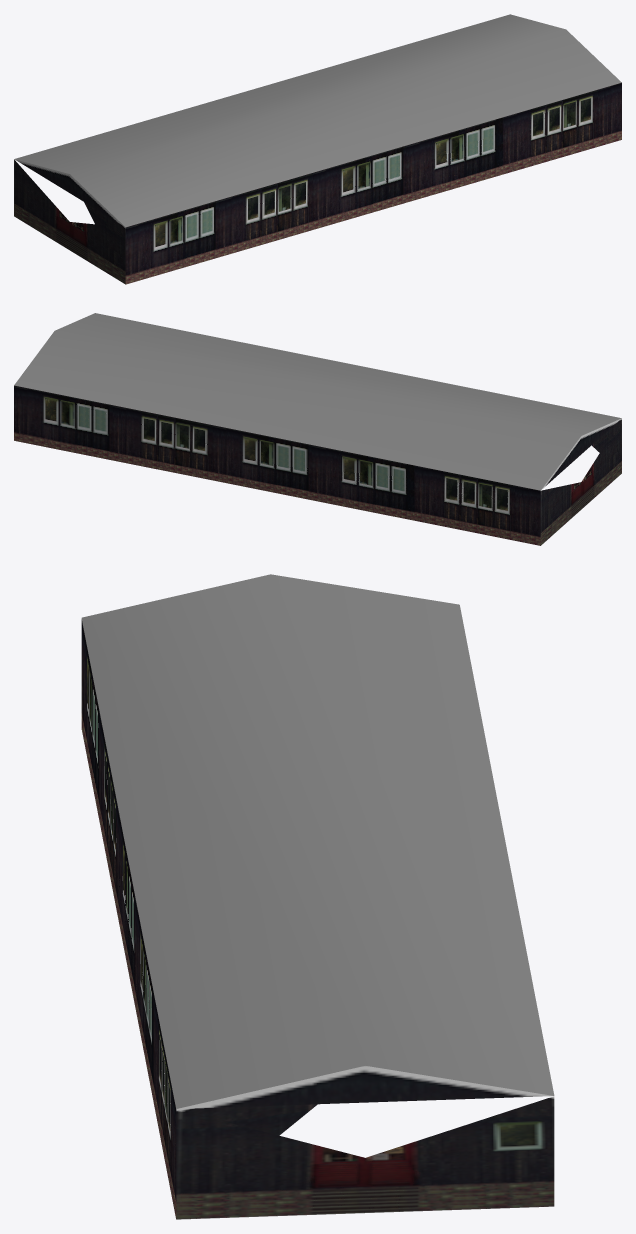
Rendered from Verwaltungsgebaeude_2.gltf.
3 renders of one model, top to bottom at view 1: azimuth 30°, elevation 25°; view 2: azimuth 150°, elevation 25°; view 3: azimuth 270°, elevation 25°, orthographic. The views are drawn at different scales.
Parts seen in each view (by area): view 1: Dach.1; view 2: Dach.1; view 3: Dach.1.
Part boxes in pixels (x1,y1,x2,y2): Dach.1: (14,14,621,284); Dach.1: (14,313,621,545); Dach.1: (81,574,554,1219).
Bounding box in the file's own units: 44 × 6.02 × 17.45.
4 materials, 3 textured.
